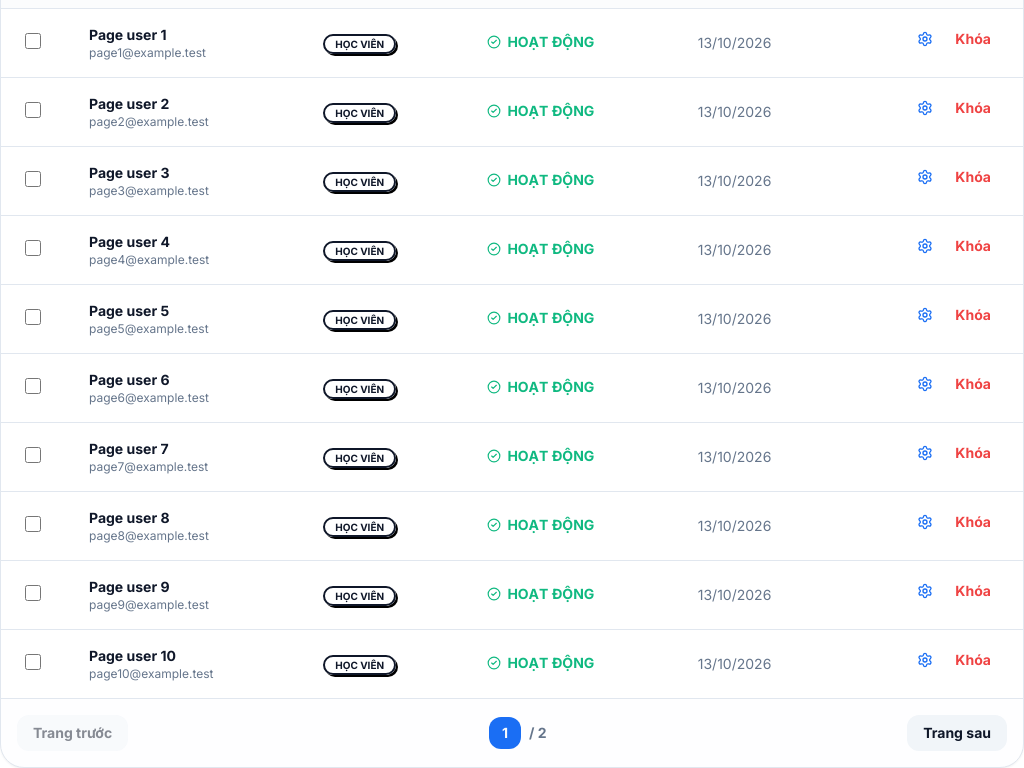
admin query states › retries the failed second user page without returning to page one
(page scrolled)
Check: the text "Page user 1" is shown, box [89, 26, 166, 43]
Click the button "Trang sau".
click(957, 733)  # box [907, 715, 1007, 751]
(page scrolled)
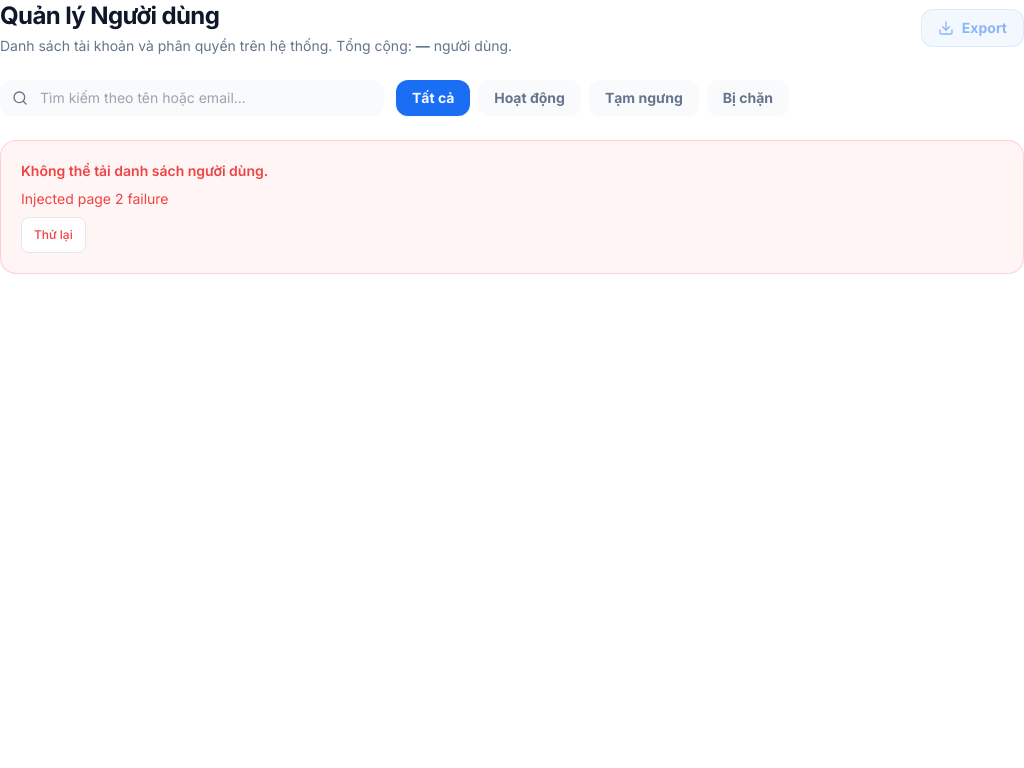
Check: the message "Không thể tải danh sách người dùng. Injected page 2 failure Thử lại" is shown, box [0, 140, 1023, 274]
Click the button "Thử lại".
click(53, 235)  # box [21, 217, 86, 253]
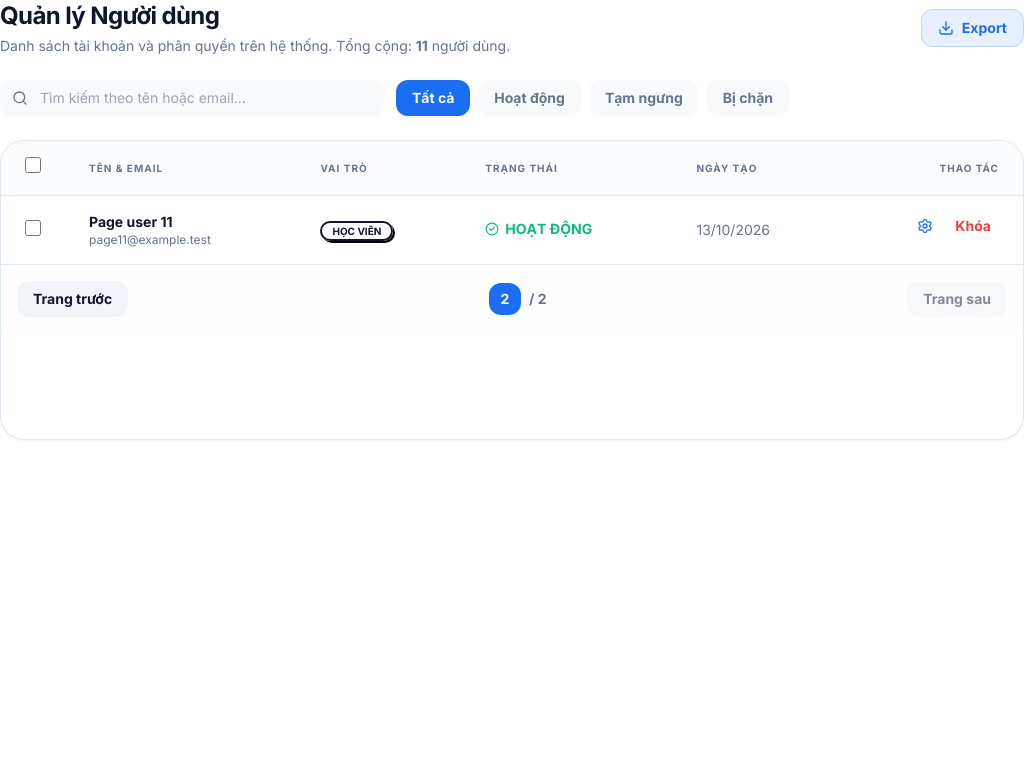
Check: the text "Page user 11" is shown, box [89, 213, 172, 230]
